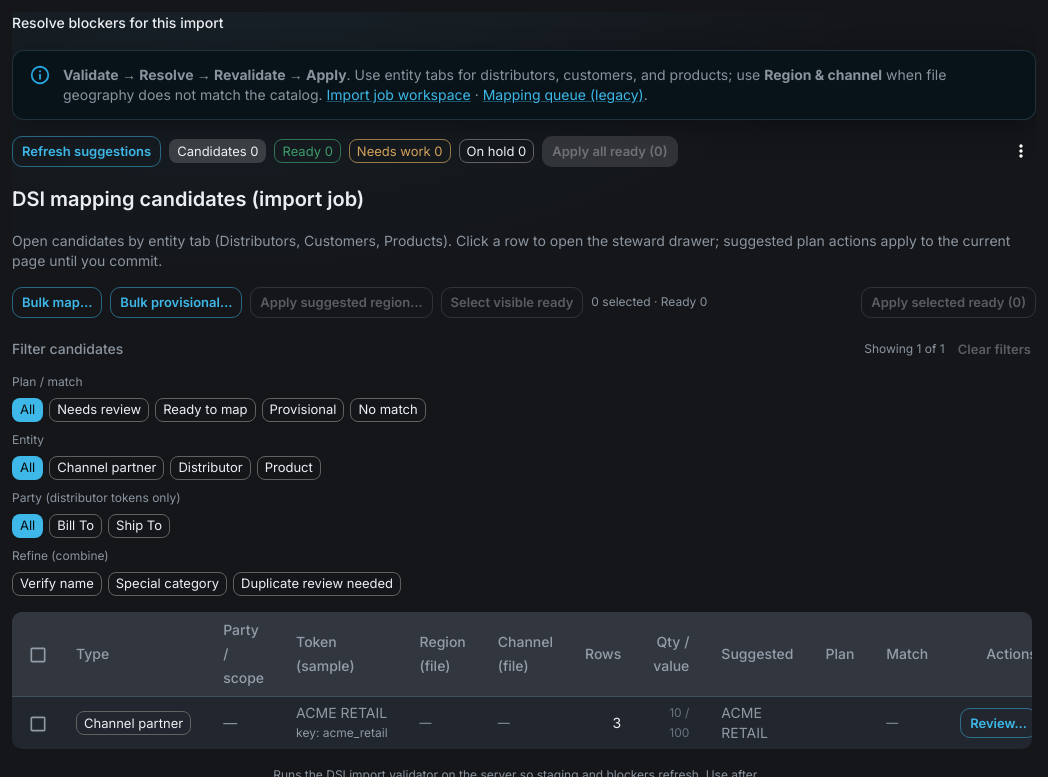
Test case: DsiImportJobResolutionSection bulk steward › opens bulk map form without crashing (StewardBulkActionInlineForm)
Click the button with test id "dsi-bulk-map-open" at (57, 302), box left=12, top=287, right=102, bottom=318
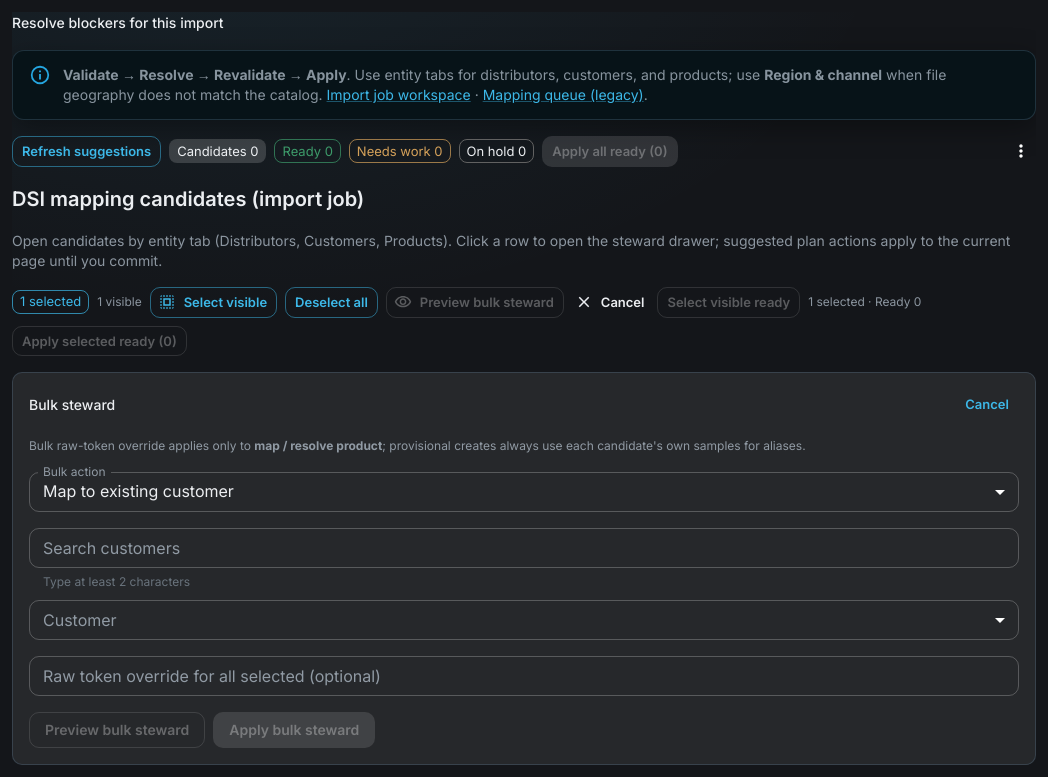
Expected: the element with test id "dsi-bulk-action-form" is shown, left=12, top=372, right=1036, bottom=765
Expected: the field with test id "dsi-bulk-customer-search" is shown, left=29, top=528, right=1019, bottom=568
